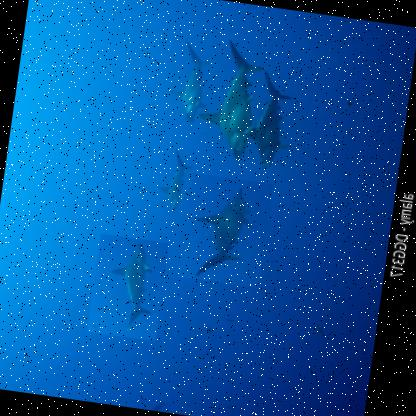hammerhead_Shark: (177, 172, 273, 288), (86, 233, 169, 342)
